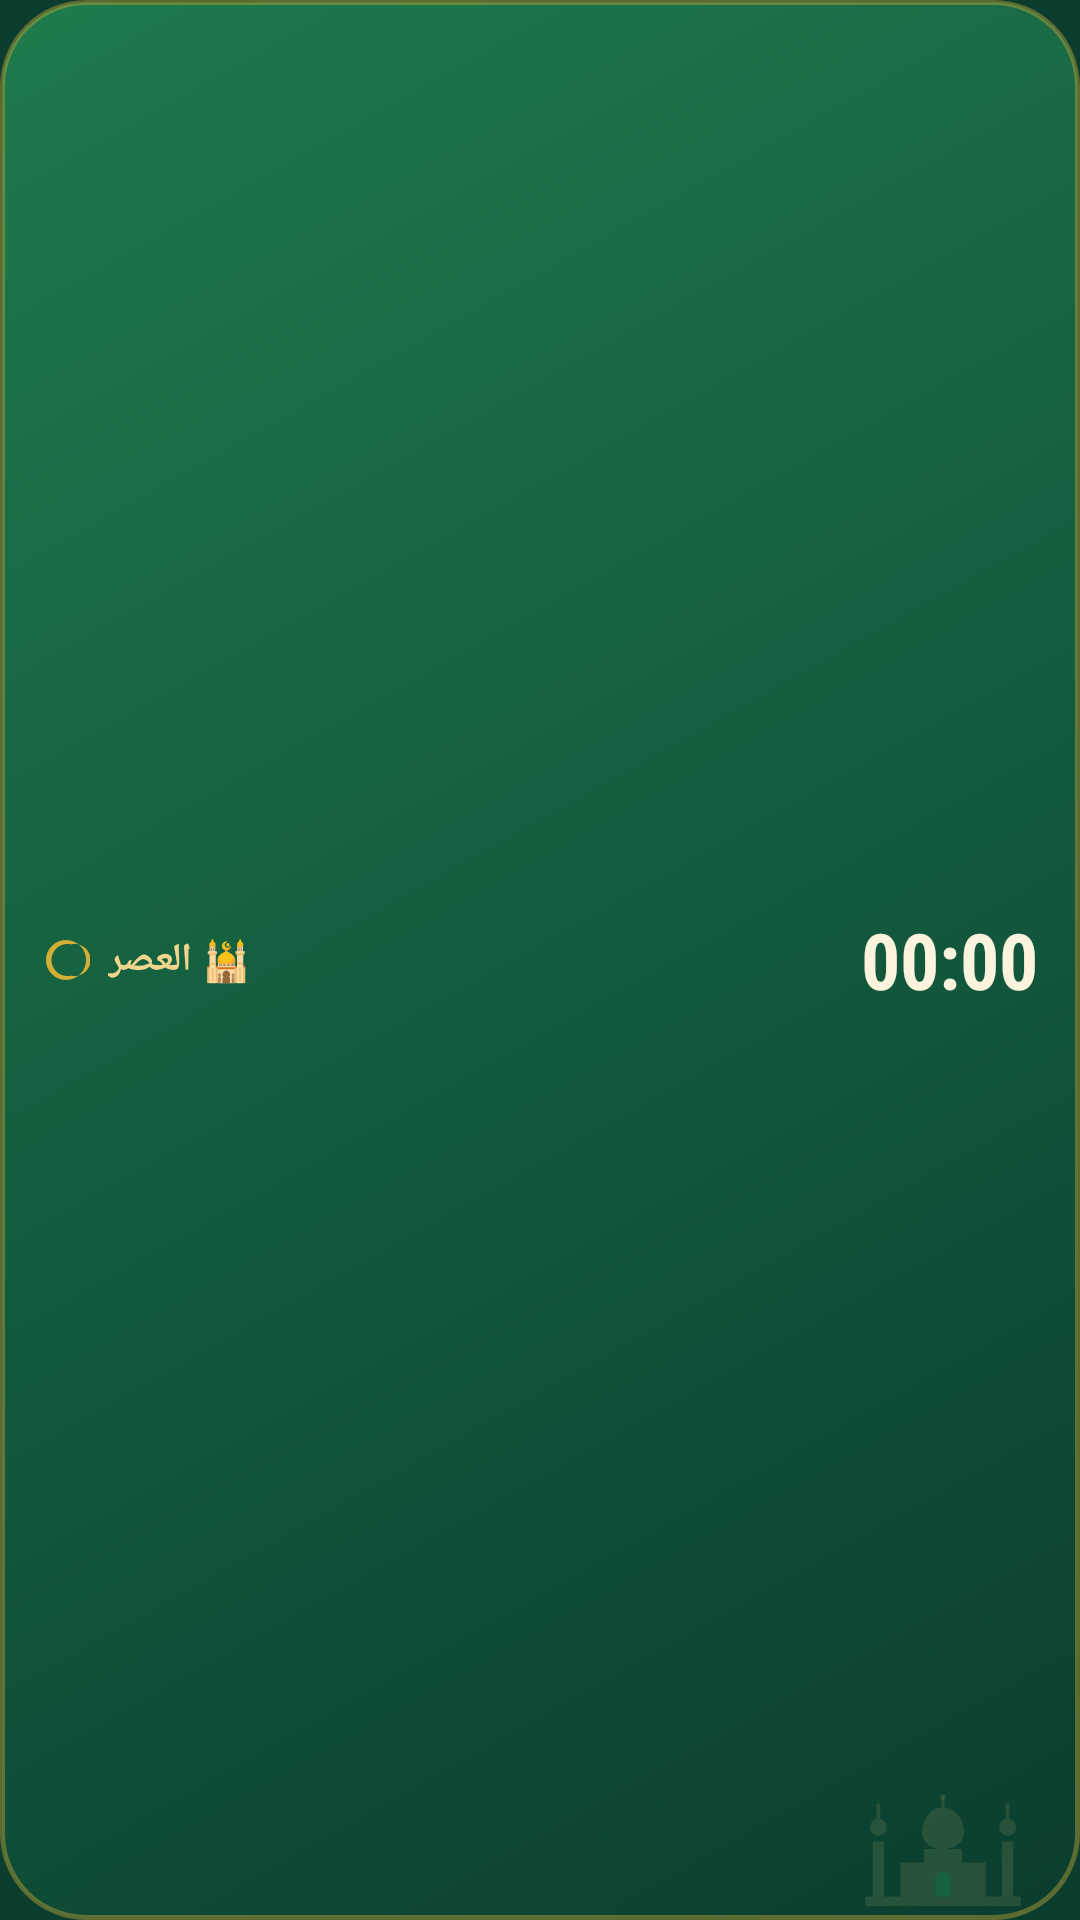

Named icons in this screenshot (1080px x 1920px) and their centers, point (x, y):
crescent: point (68, 960)
mosque silhouette: point (943, 1850)
